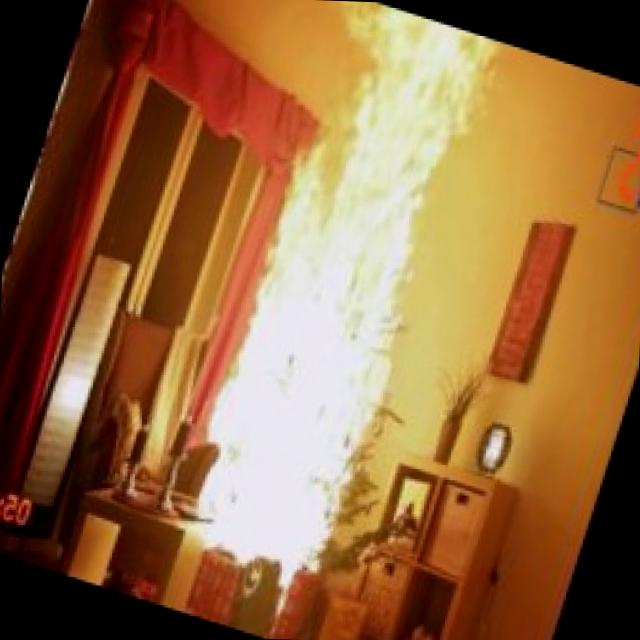fire: (126, 0, 537, 622)
